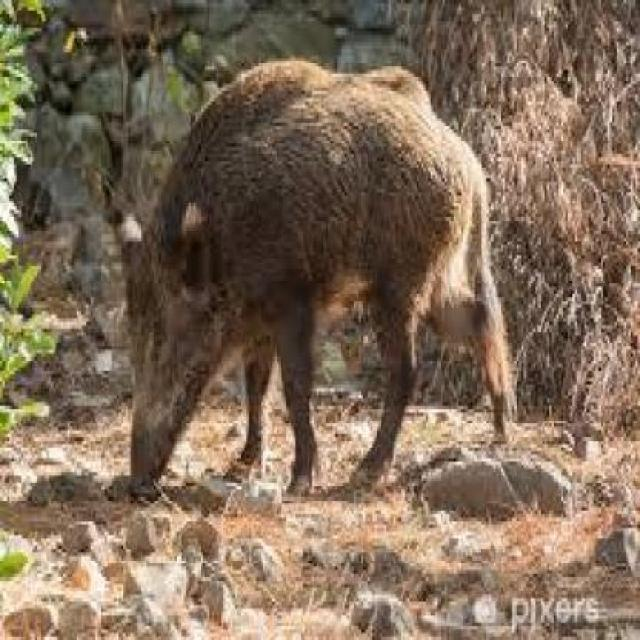wildboar: (118, 59, 518, 519)
